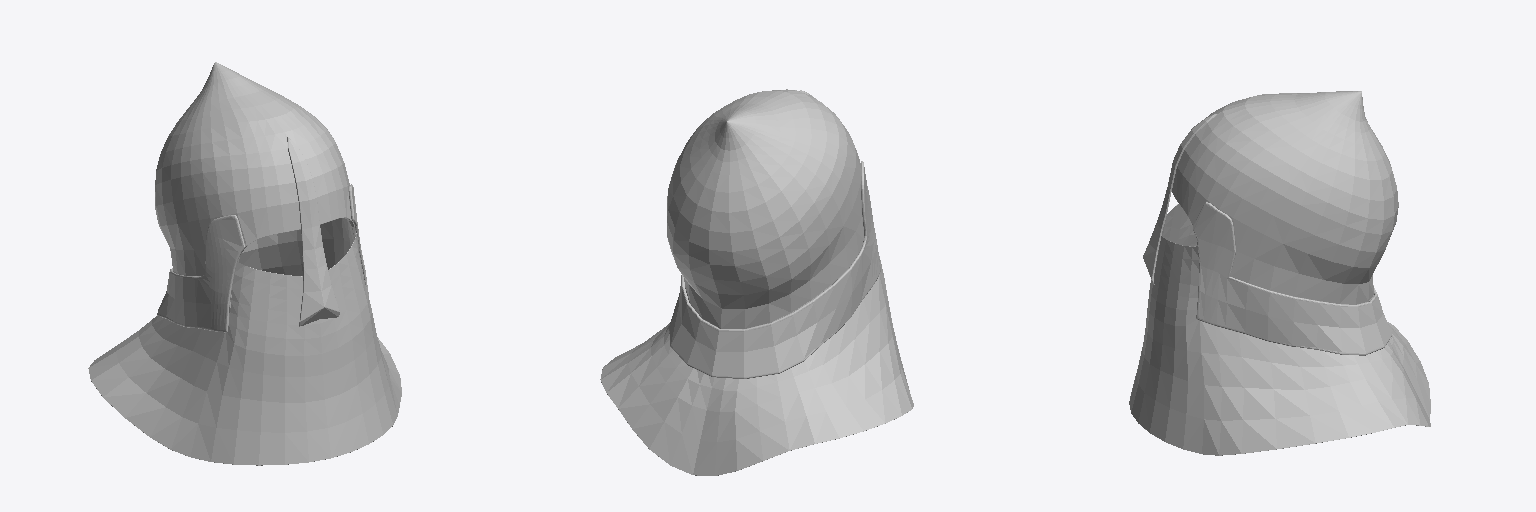
File: Helmet_nanosnik.obj
3 renders of one model, left to right at view 1: azimuth 30°, elevation 25°; view 2: azimuth 150°, elevation 25°; view 3: azimuth 270°, elevation 25°, orthographic.
Visible parts, largest first — view 1: Sphere001; view 2: Sphere001; view 3: Sphere001.
Part boxes in pixels (x1,y1,x2,y2): Sphere001: (88,62,401,465); Sphere001: (600,89,913,475); Sphere001: (1129,91,1430,455).
Size of the model in its own units: 290 by 337 by 280.